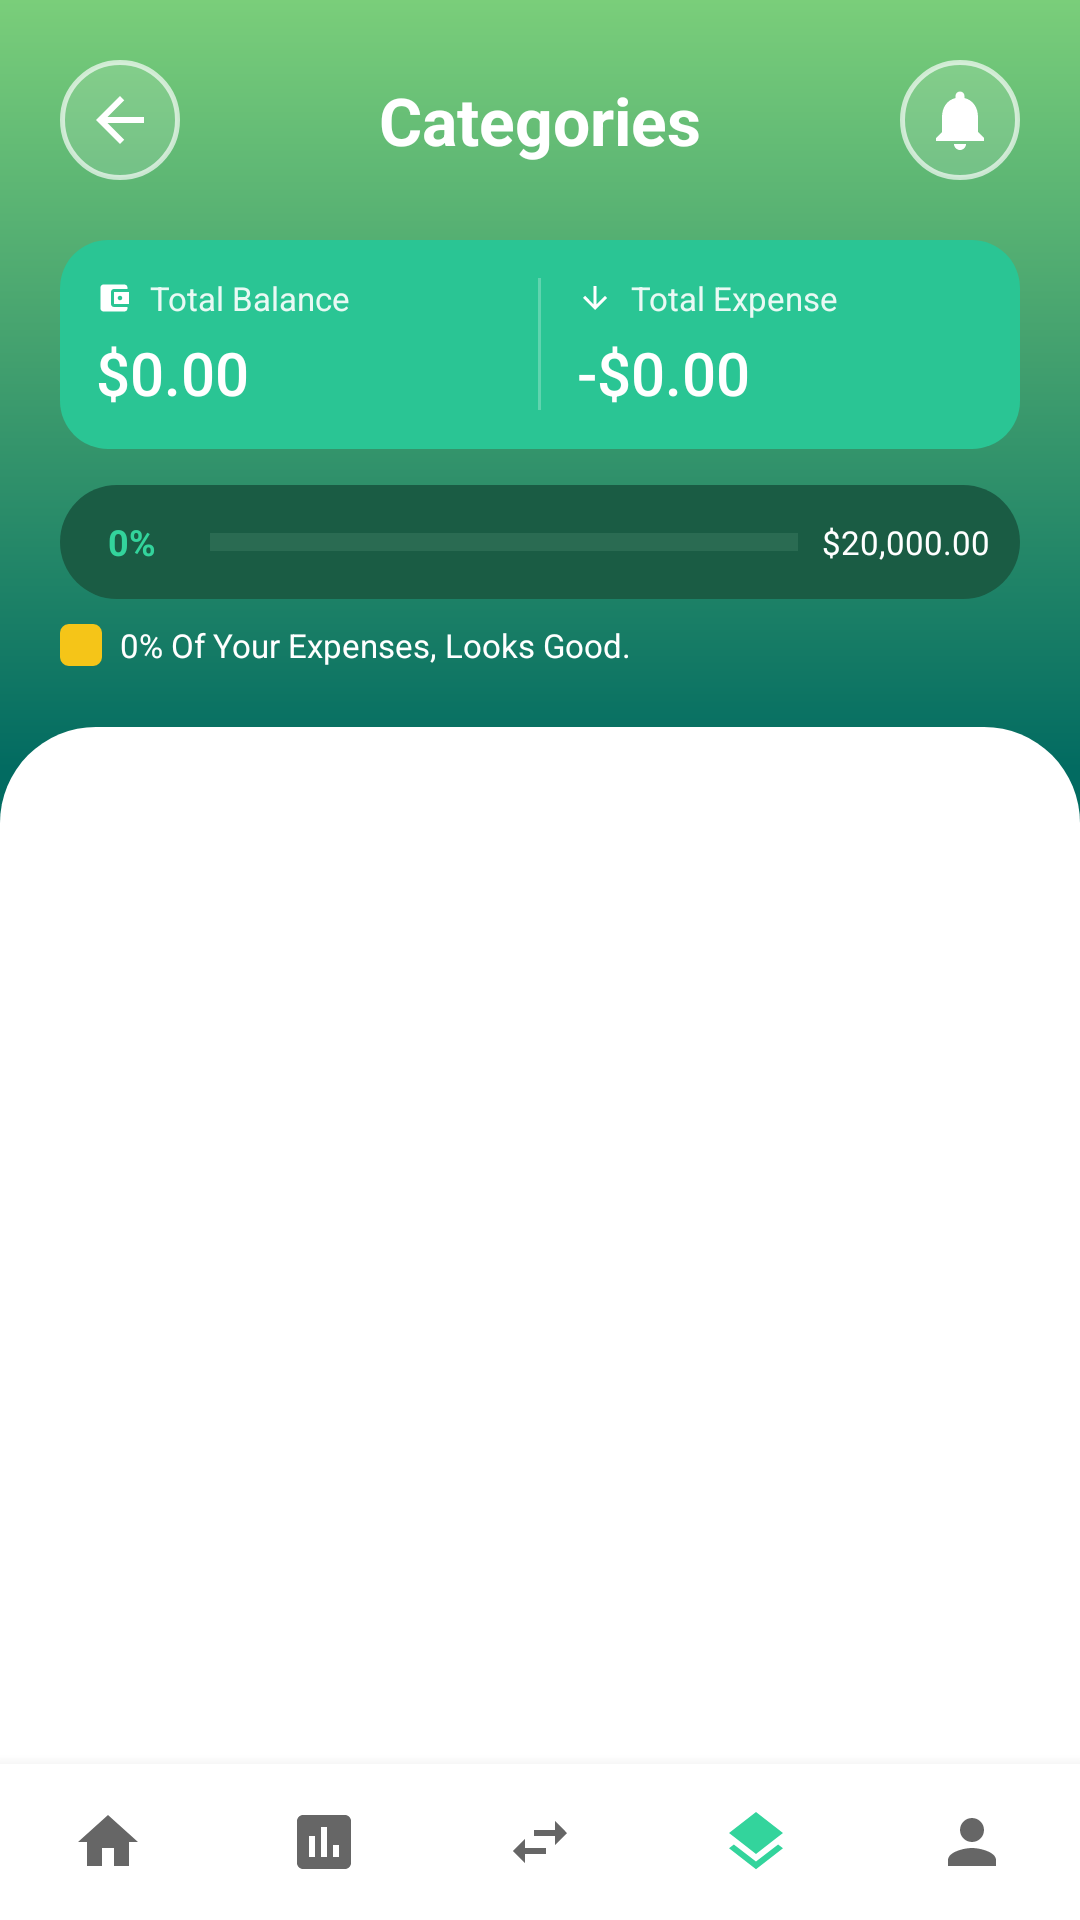

Screen size 1080x1920. Icon name, then its center in pixels as [x,y]:
Analytics: [324,1842]
Back: [120,120]
Home: [108,1840]
Layers: [756,1840]
Notifications: [960,120]
Profile: [972,1842]
Transfer: [540,1842]
Wallet: [114,298]
